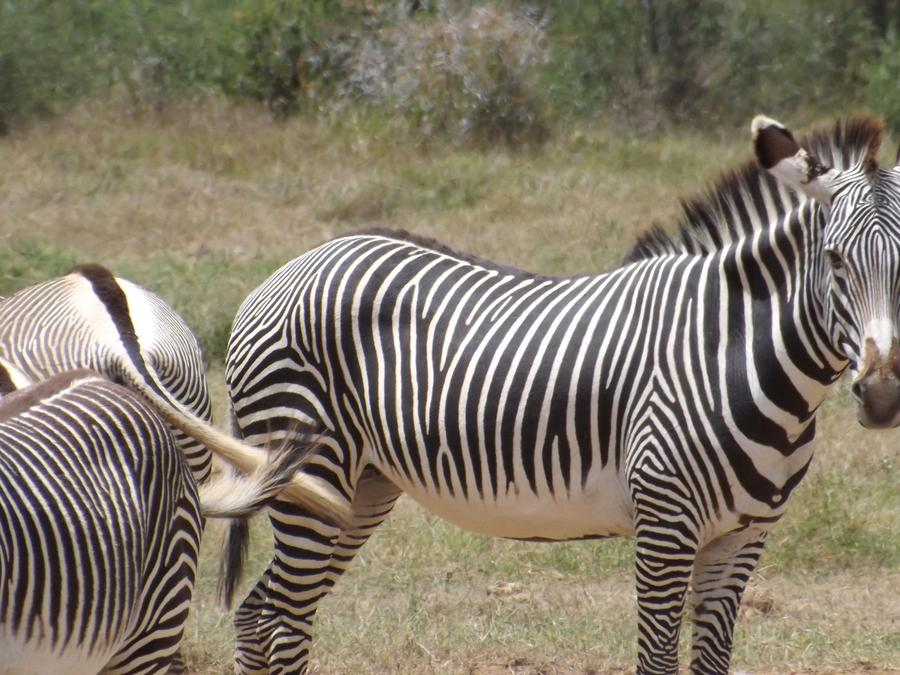zebra_grevys: (209, 249, 763, 521)
